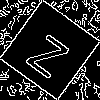Z: (24, 25, 77, 80)
